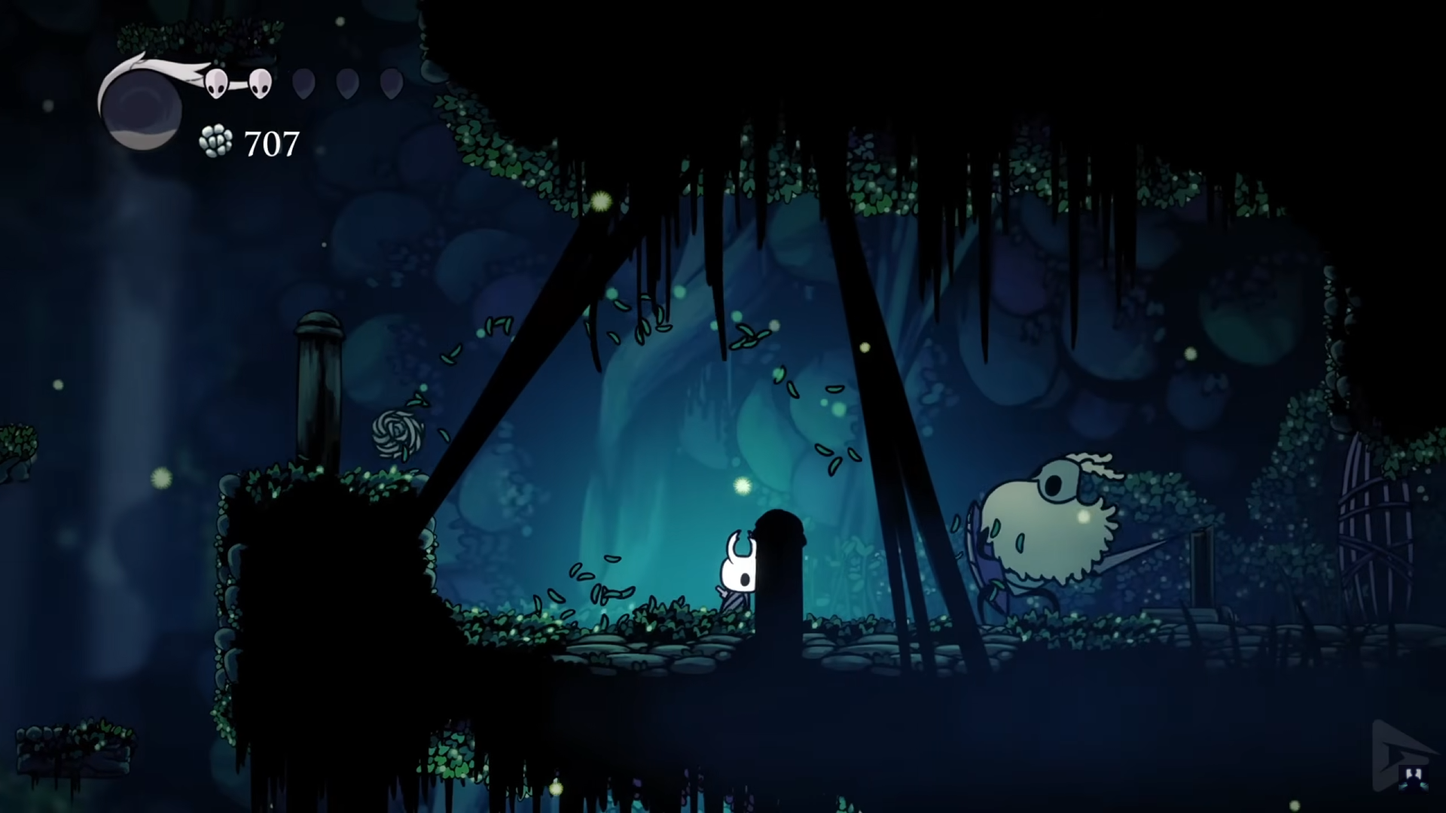HK: (709, 522, 769, 623)
